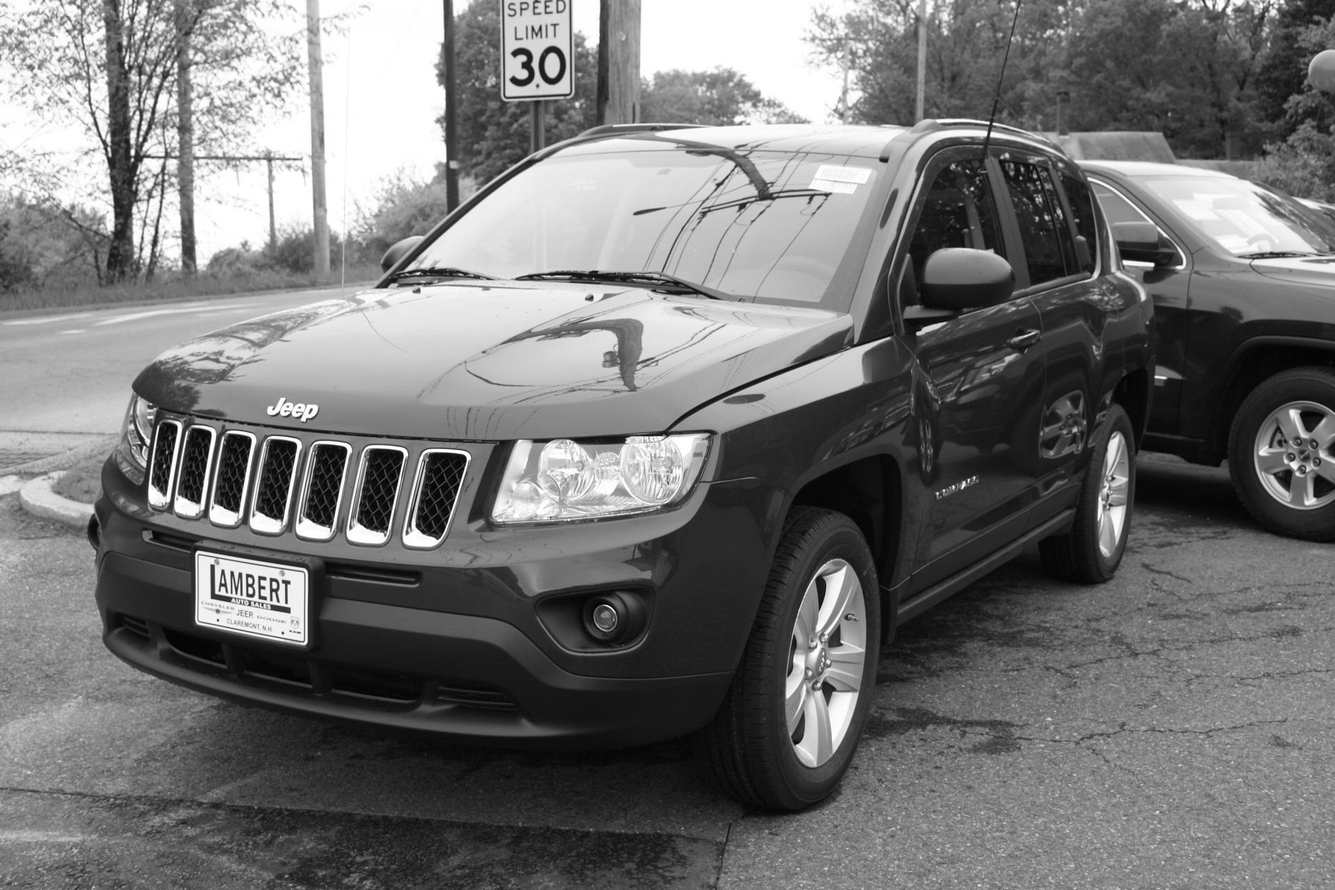car: (88, 119, 1158, 822)
